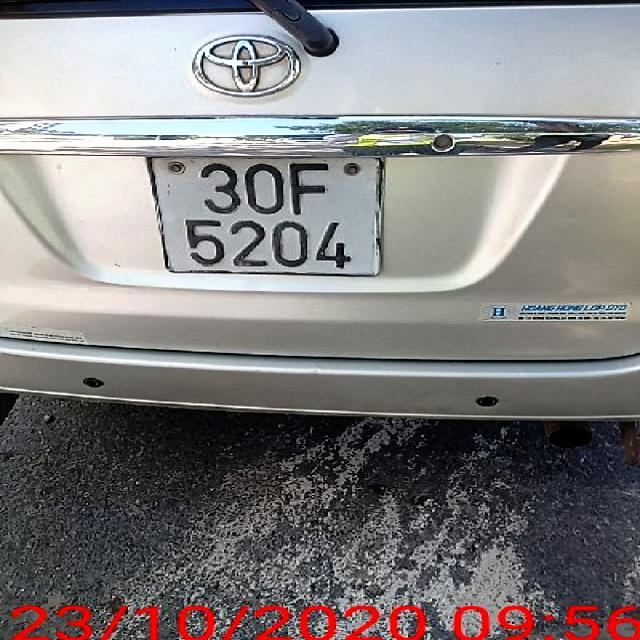license_plate: (148, 158, 384, 277)
